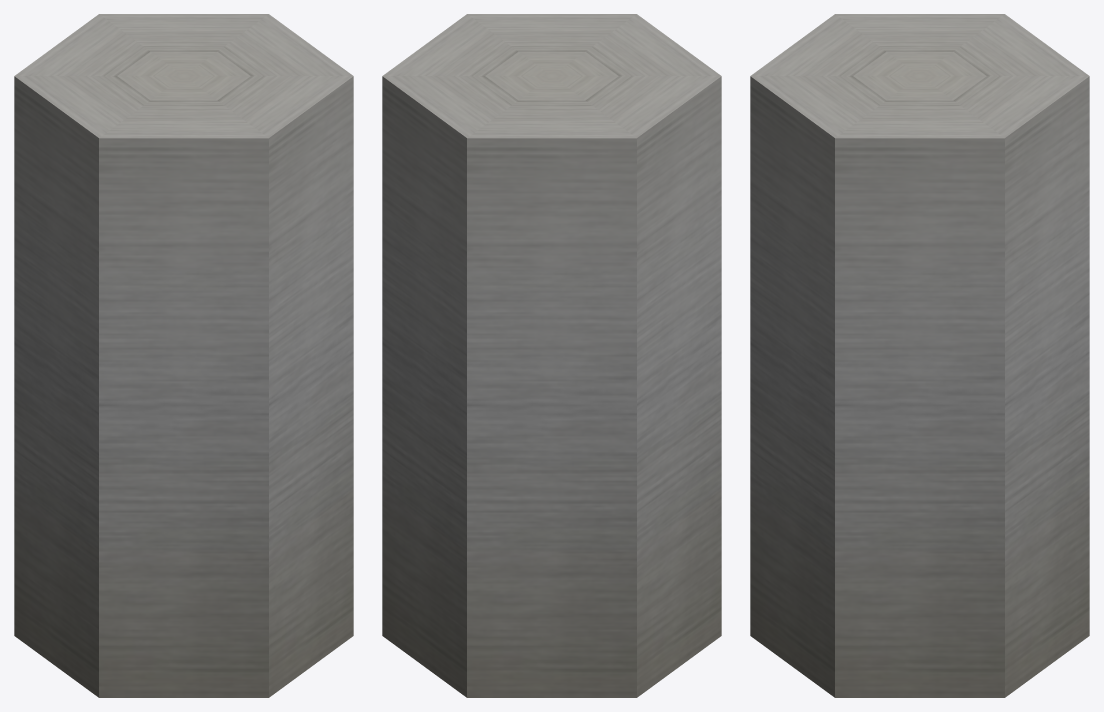
Rendered from metalpipe 1.fbx.
3 renders of one model, left to right at view 1: azimuth 30°, elevation 25°; view 2: azimuth 150°, elevation 25°; view 3: azimuth 270°, elevation 25°, orthographic.
Visible parts, largest first — view 1: metalpipe; view 2: metalpipe; view 3: metalpipe.
Part boxes in pixels (<box>): metalpipe: <box>14,14,353,697</box>; metalpipe: <box>382,14,721,697</box>; metalpipe: <box>750,14,1089,697</box>.
Size of the model in its own units: 93.32 by 196 by 108.
